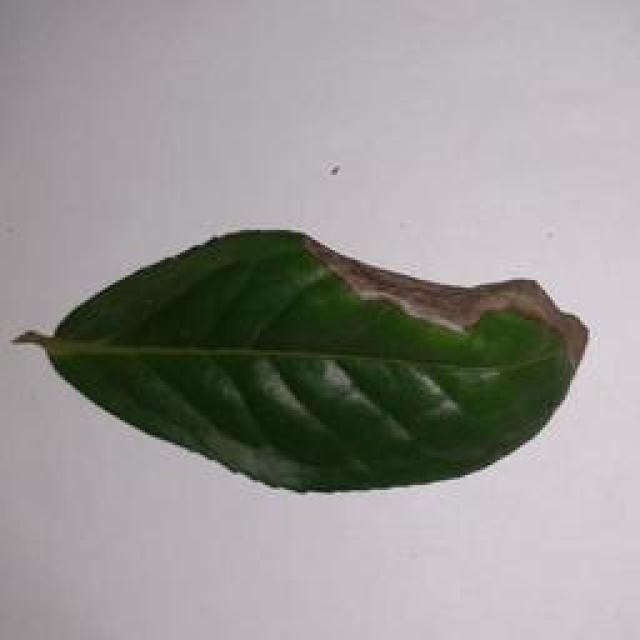Brown Blight: (0, 216, 619, 497)
